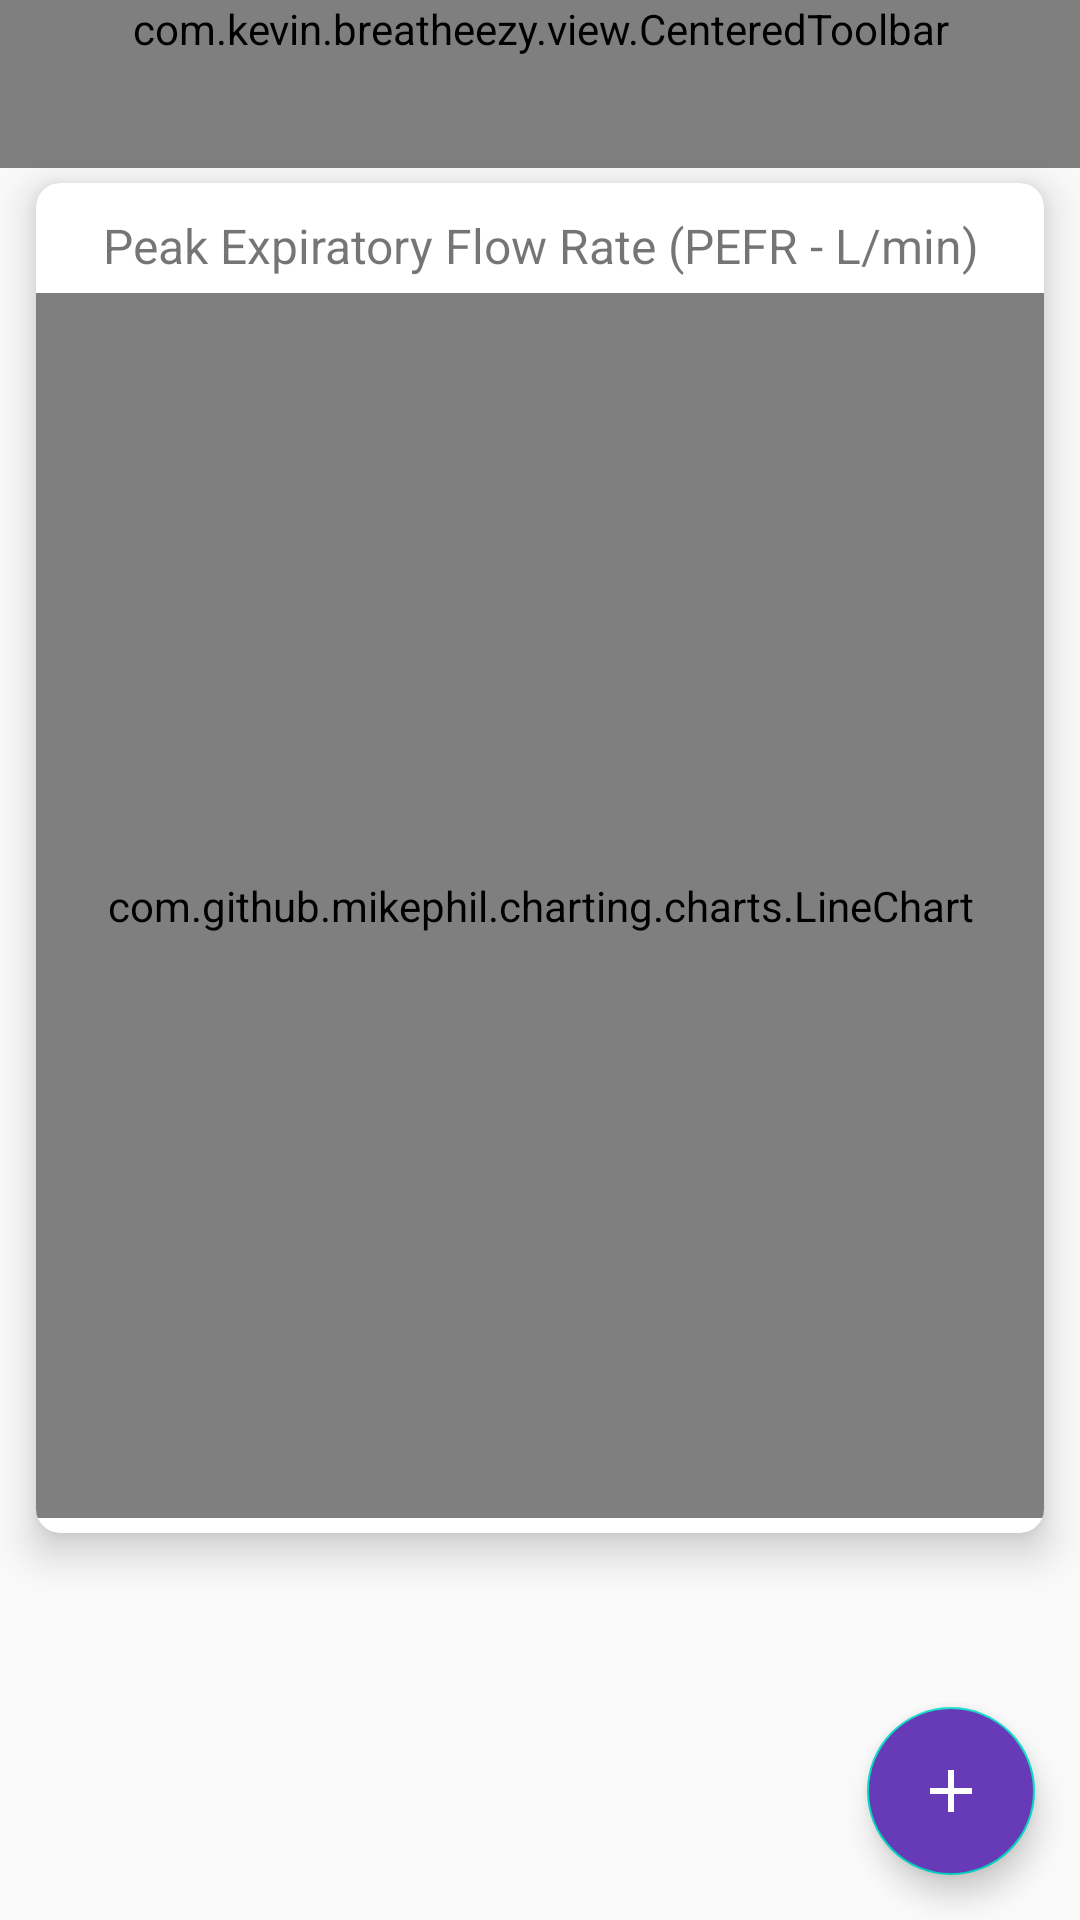

Locate icon controls on the screen. Image size 1080w x 1920h, boxes as (x1, y1, x2, y2).
plus: (867, 1707, 1035, 1875)
